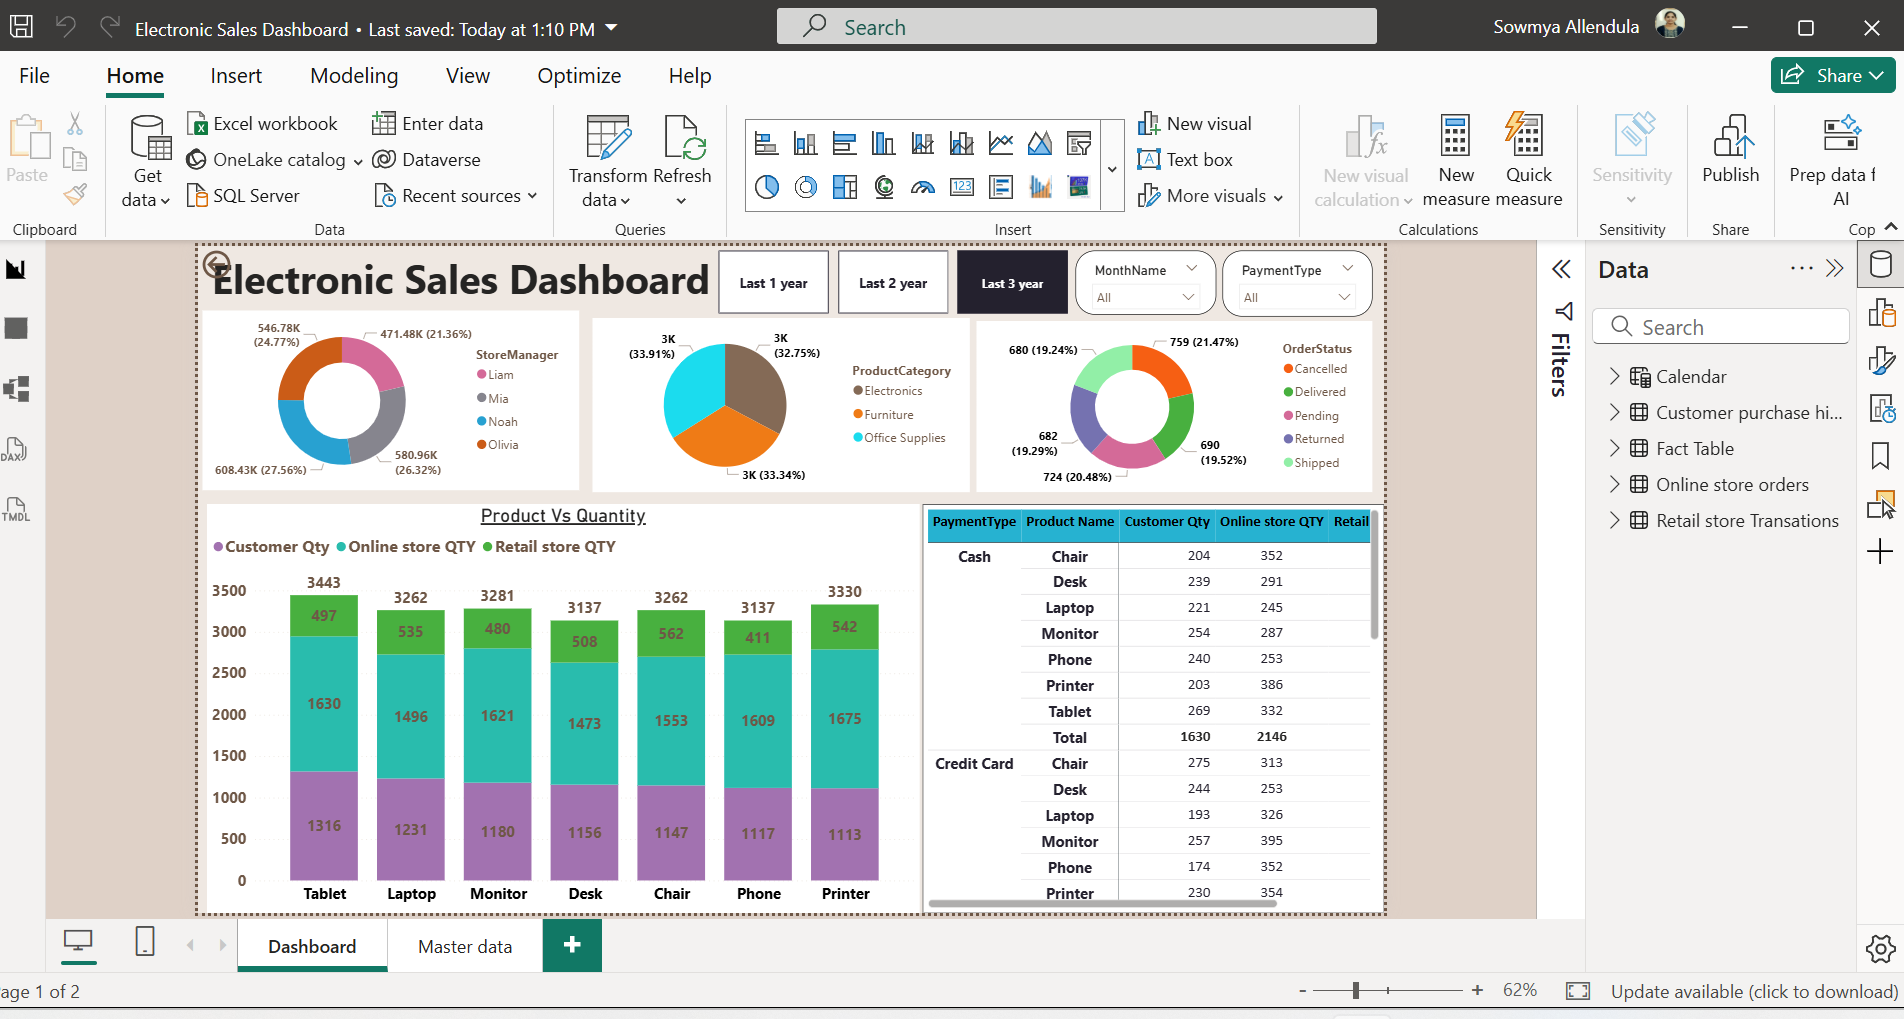

This screenshot's page, from the dashboard's own definition file:
{"tool":"powerbi","page":{"name":"Dashboard","canvas":[1280,720],"ordinal":0},"visuals":[{"type":"textbox","box":[9.7,0,566.7,68],"z":0},{"type":"slicer","fields":{"Values":["Calendar.MonthName"]},"box":[946.7,4.3,152.2,69.6],"z":1000},{"type":"slicer","fields":{"Values":["Online store orders.PaymentType"]},"box":[1105.4,4.9,161.9,71.2],"z":2000},{"type":"lineStackedColumnComboChart","title":"Product Vs Quantity","fields":{"Category":["Fact Table.Product Name"],"Y":["Fact Table.Customer Qty","Fact Table.Online store QTY","Fact Table.Retail store QTY"]},"box":[9.7,278.5,769.1,442],"z":3000},{"type":"bookmarkNavigator","box":[561.9,4.9,378.9,68.5],"z":5000},{"type":"pieChart","fields":{"Category":["Customer purchase history.ProductCategory"],"Y":["Sum(Customer purchase history.Quantity)"]},"box":[426.4,77.7,407.5,187.8],"z":6000},{"type":"donutChart","fields":{"Category":["Online store orders.StoreManager"],"Y":["Sum(Online store orders.TotalPrice)"]},"box":[4.9,69.6,406.4,194.3],"z":7000},{"type":"donutChart","fields":{"Category":["Retail store Transations.OrderStatus"],"Y":["Sum(Retail store Transations.Quantity)"]},"box":[840.4,81,427.5,184.6],"z":8000},{"type":"pivotTable","fields":{"Rows":["Online store orders.PaymentType","Fact Table.Product Name"],"Values":["Fact Table.Customer Qty","Fact Table.Online store QTY","Fact Table.Retail store QTY"]},"box":[782.1,278.5,498.7,442],"z":9000},{"type":"actionButton","box":[0,0,100,40],"z":10000}]}

Visuals, with their boxes on the page's 1280x720 design canvas (x1, y1, x2, y2). These are canvas units, not pixel positions in the 1904x1019 screenshot, which may show the page scaled, cropped or inside an application window:
textbox: [10,0,576,68]
slicer - Calendar.MonthName: [947,4,1099,74]
slicer - Online store orders.PaymentType: [1105,5,1267,76]
"Product Vs Quantity" lineStackedColumnComboChart: [10,278,779,720]
bookmarkNavigator: [562,5,941,73]
pieChart - Customer purchase history.ProductCategory x Sum(Customer purchase history.Quantity): [426,78,834,266]
donutChart - Online store orders.StoreManager x Sum(Online store orders.TotalPrice): [5,70,411,264]
donutChart - Retail store Transations.OrderStatus x Sum(Retail store Transations.Quantity): [840,81,1268,266]
pivotTable - Online store orders.PaymentType x Fact Table.Product Name: [782,278,1281,720]
actionButton: [0,0,100,40]
